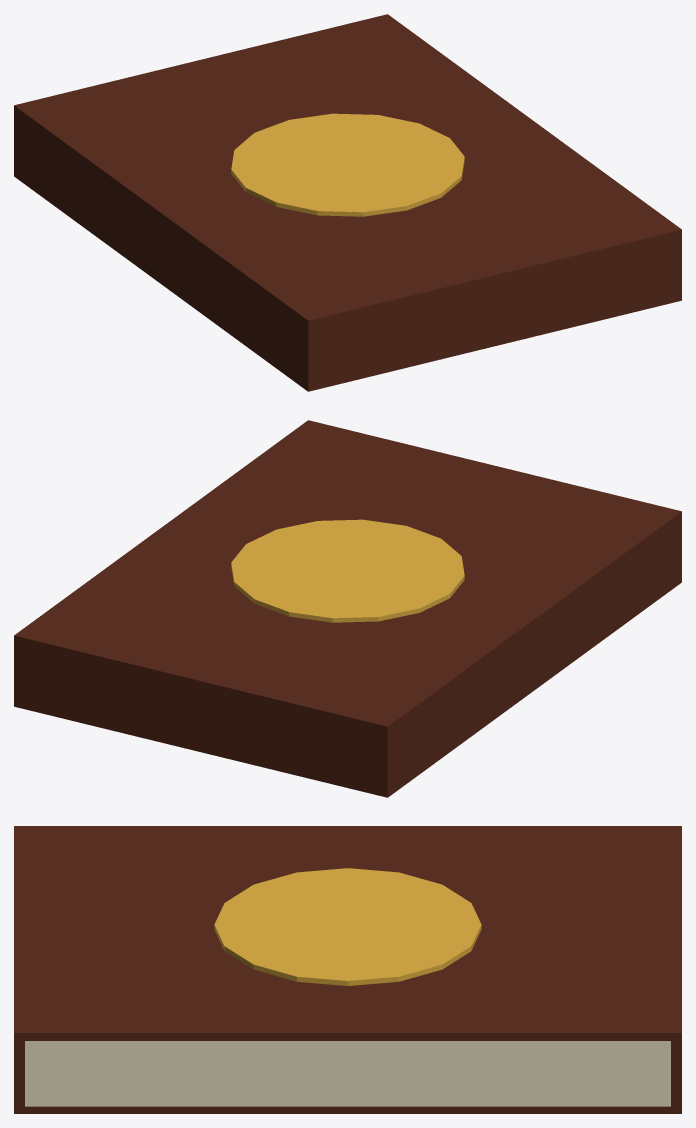
The model's file is collector_catalog.glb.
The picture shows the model from 3 angles, top to bottom: view 1: azimuth 30°, elevation 25°; view 2: azimuth 150°, elevation 25°; view 3: azimuth 270°, elevation 25°; orthographic projection. The views are drawn at different scales.
Parts seen in each view (by area): view 1: cover_leather, disc_gold; view 2: cover_leather, disc_gold; view 3: cover_leather, pages_page_cream, disc_gold.
Boxes of the visible parts, x1=… form: cover_leather: x1=14, y1=14, x2=681, y2=391; disc_gold: x1=231, y1=113, x2=464, y2=216; cover_leather: x1=14, y1=420, x2=681, y2=797; disc_gold: x1=231, y1=519, x2=464, y2=622; cover_leather: x1=14, y1=826, x2=681, y2=1113; pages_page_cream: x1=25, y1=1041, x2=670, y2=1106; disc_gold: x1=214, y1=868, x2=481, y2=985.
Bounding box in the file's own units: 0.221 × 0.0425 × 0.3.
